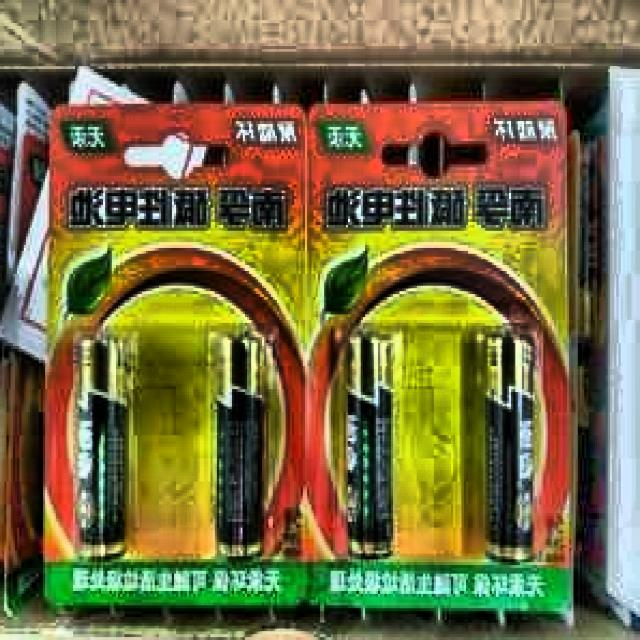Non-Valuable Waste - Batteries: (76, 337, 125, 555), (486, 335, 533, 559), (217, 335, 264, 555), (347, 335, 392, 556)
